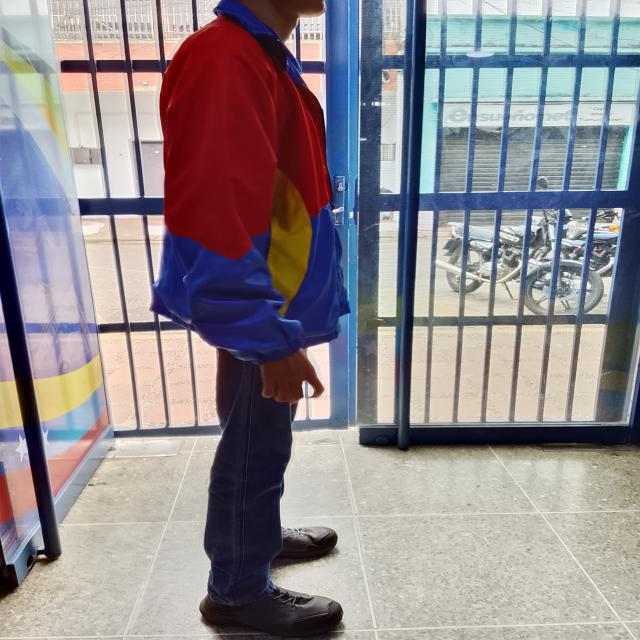chaqueta_unefa: (148, 0, 352, 367)
